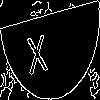X: (25, 24, 49, 76)
